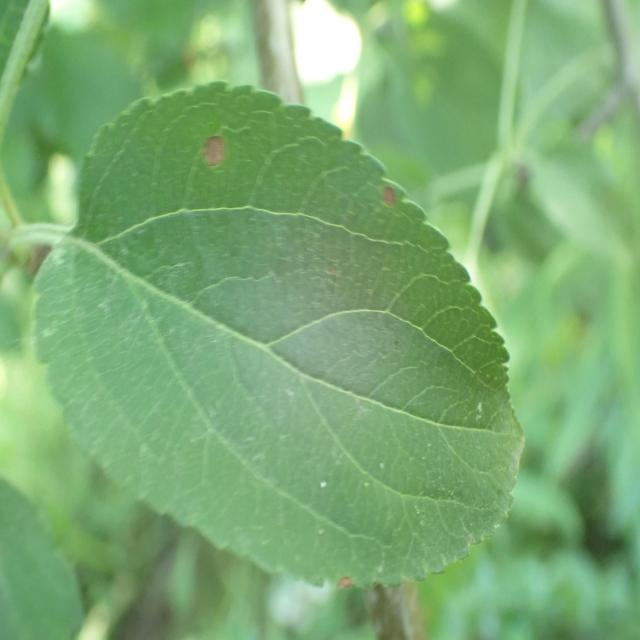Black Rot: (203, 124, 240, 192), (360, 162, 408, 214)
